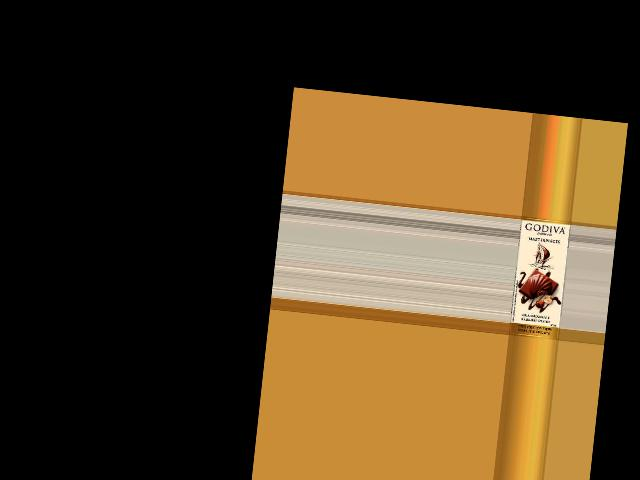chocolate: (509, 216, 571, 339)
